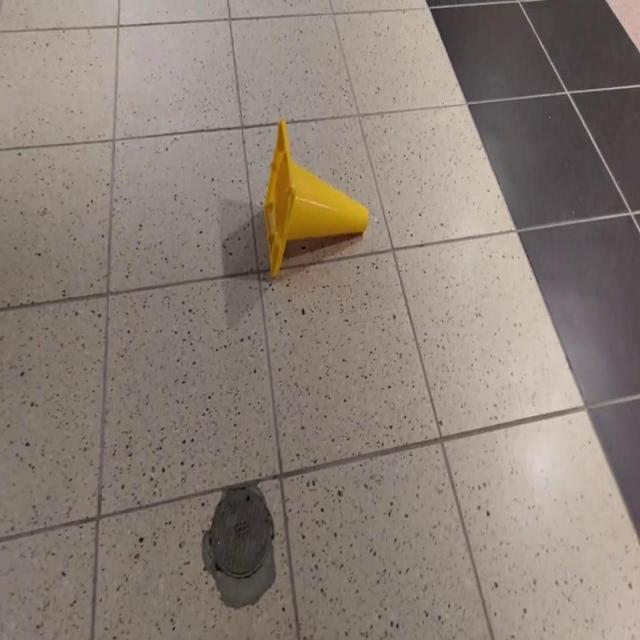frc_cone: (263, 119, 369, 280)
